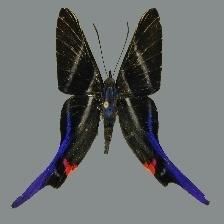butterfly: (12, 8, 209, 208)
